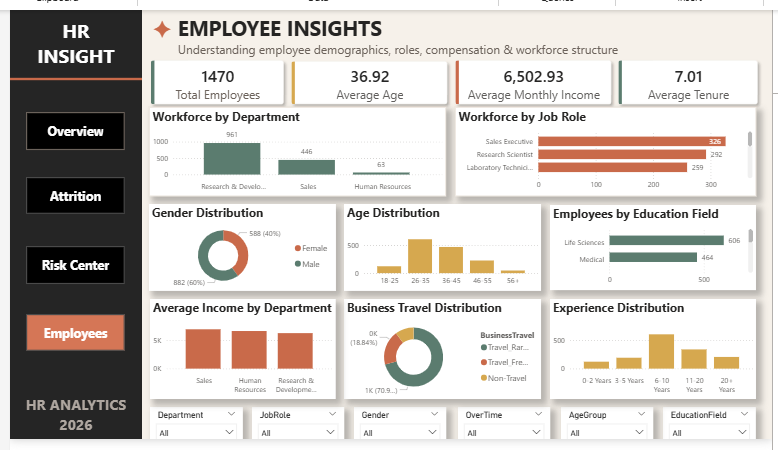

The page's visual inventory and layout, read from the dashboard file:
{"tool":"powerbi","page":{"name":"Employees","canvas":[1280,720],"ordinal":3},"visuals":[{"type":"shape","box":[0,0,221.7,720.6],"z":0},{"type":"textbox","title":"EMPLOYEE INSIGHTS","box":[278.8,6.7,801.3,102.5],"z":1000},{"type":"textbox","box":[0,6.7,221.7,102.5],"z":2000},{"type":"shape","box":[0,109.2,221.7,13.4],"z":3000},{"type":"actionButton","title":" ▌","box":[26.9,171.3,166.3,63.8],"z":4000},{"type":"actionButton","box":[26.9,280.5,166.3,62.2],"z":5000},{"type":"actionButton","title":"Risk Center","box":[26.9,396.4,166.3,63.8],"z":6000},{"type":"actionButton","title":"Employees","box":[26.9,510.7,166.3,62.2],"z":7000},{"type":"textbox","box":[0,641,221.7,79],"z":8000},{"type":"cardVisual","title":"Total Employees","fields":{"Data":["Employee Data.Average Tenure"]},"box":[998,60,282.2,122],"z":9000},{"type":"cardVisual","title":"Total Employees","fields":{"Data":["Employee Data.Total Employees"]},"box":[206.6,60.5,277.2,122.6],"z":10000},{"type":"cardVisual","title":"Total Employees","fields":{"Data":["Employee Data.Average Age"]},"box":[448,62.2,310.8,120.9],"z":11000},{"type":"cardVisual","title":"Total Employees","fields":{"Data":["Employee Data.Average Monthly Income"]},"box":[724,60,310.8,122],"z":12000},{"type":"clusteredColumnChart","title":"Workforce by Department","fields":{"Y":["Employee Data.Total Employees"],"Category":["Employee Data.Department"]},"box":[233.5,162.9,498.9,149.5],"z":13000},{"type":"clusteredBarChart","title":"Workforce by Job Role","fields":{"Category":["Employee Data.JobRole"],"Y":["Employee Data.Total Employees"]},"box":[747.5,162.9,505.6,149.5],"z":14000},{"type":"donutChart","title":"Gender Distribution","fields":{"Y":["Employee Data.Total Employees"],"Category":["Employee Data.Gender"]},"box":[233.5,325.9,314.1,146.1],"z":15000},{"type":"clusteredColumnChart","title":"Age Distribution","fields":{"Category":["Employee Data.AgeGroup"],"Y":["Employee Data.Total Employees"]},"box":[561,325.9,330.9,146.1],"z":16000},{"type":"clusteredBarChart","title":"Employees by Education Field","fields":{"Category":["Employee Data.EducationField"],"Y":["Employee Data.Total Employees"]},"box":[907.1,327.6,346,142.8],"z":17000},{"type":"slicer","fields":{"Values":["Employee Data.Department"]},"box":[235.2,666.9,156.2,53.8],"z":18000},{"type":"slicer","fields":{"Values":["Employee Data.JobRole"]},"box":[406.5,666.9,154.5,53.8],"z":19000},{"type":"slicer","fields":{"Values":["Employee Data.Gender"]},"box":[577.8,666.9,154.5,53.8],"z":20000},{"type":"slicer","fields":{"Values":["Employee Data.OverTime"]},"box":[752.5,666.9,154.5,53.8],"z":21000},{"type":"slicer","fields":{"Values":["Employee Data.EducationField"]},"box":[1096.9,666.9,156.2,53.8],"z":22000},{"type":"textbox","box":[233.5,0,65.5,70.6],"z":23000},{"type":"donutChart","title":"Business Travel Distribution","fields":{"Category":["Employee Data.BusinessTravel"],"Y":["Employee Data.Total Employees"]},"box":[561,485.5,330.9,168],"z":24000},{"type":"slicer","fields":{"Values":["Employee Data.AgeGroup"]},"box":[925.6,666.9,154.5,53.8],"z":25000},{"type":"clusteredColumnChart","title":"Average Income by Department","fields":{"Category":["Employee Data.Department"],"Y":["Employee Data.Average Monthly Income"]},"box":[235.2,485.5,312.4,168],"z":26000},{"type":"clusteredColumnChart","title":"Experience Distribution","fields":{"Category":["Experience Groups.ExperienceGroup"],"Y":["Employee Data.Total Employees"]},"box":[907.1,485.5,346,168],"z":27000}]}

Visuals, with their boxes on the page's 1280x720 design canvas (x1, y1, x2, y2). These are canvas units, not pixel positions in the 778x450 screenshot, which may show the page scaled, cropped or inside an application window:
shape: 0 0 222 721
"EMPLOYEE INSIGHTS" textbox: 279 7 1080 109
textbox: 0 7 222 109
shape: 0 109 222 123
" ▌" actionButton: 27 171 193 235
actionButton: 27 280 193 343
"Risk Center" actionButton: 27 396 193 460
"Employees" actionButton: 27 511 193 573
textbox: 0 641 222 720
"Total Employees" cardVisual: 998 60 1280 182
"Total Employees" cardVisual: 207 60 484 183
"Total Employees" cardVisual: 448 62 759 183
"Total Employees" cardVisual: 724 60 1035 182
"Workforce by Department" clusteredColumnChart: 234 163 732 312
"Workforce by Job Role" clusteredBarChart: 748 163 1253 312
"Gender Distribution" donutChart: 234 326 548 472
"Age Distribution" clusteredColumnChart: 561 326 892 472
"Employees by Education Field" clusteredBarChart: 907 328 1253 470
slicer - Employee Data.Department: 235 667 391 721
slicer - Employee Data.JobRole: 406 667 561 721
slicer - Employee Data.Gender: 578 667 732 721
slicer - Employee Data.OverTime: 752 667 907 721
slicer - Employee Data.EducationField: 1097 667 1253 721
textbox: 234 0 299 71
"Business Travel Distribution" donutChart: 561 486 892 654
slicer - Employee Data.AgeGroup: 926 667 1080 721
"Average Income by Department" clusteredColumnChart: 235 486 548 654
"Experience Distribution" clusteredColumnChart: 907 486 1253 654
